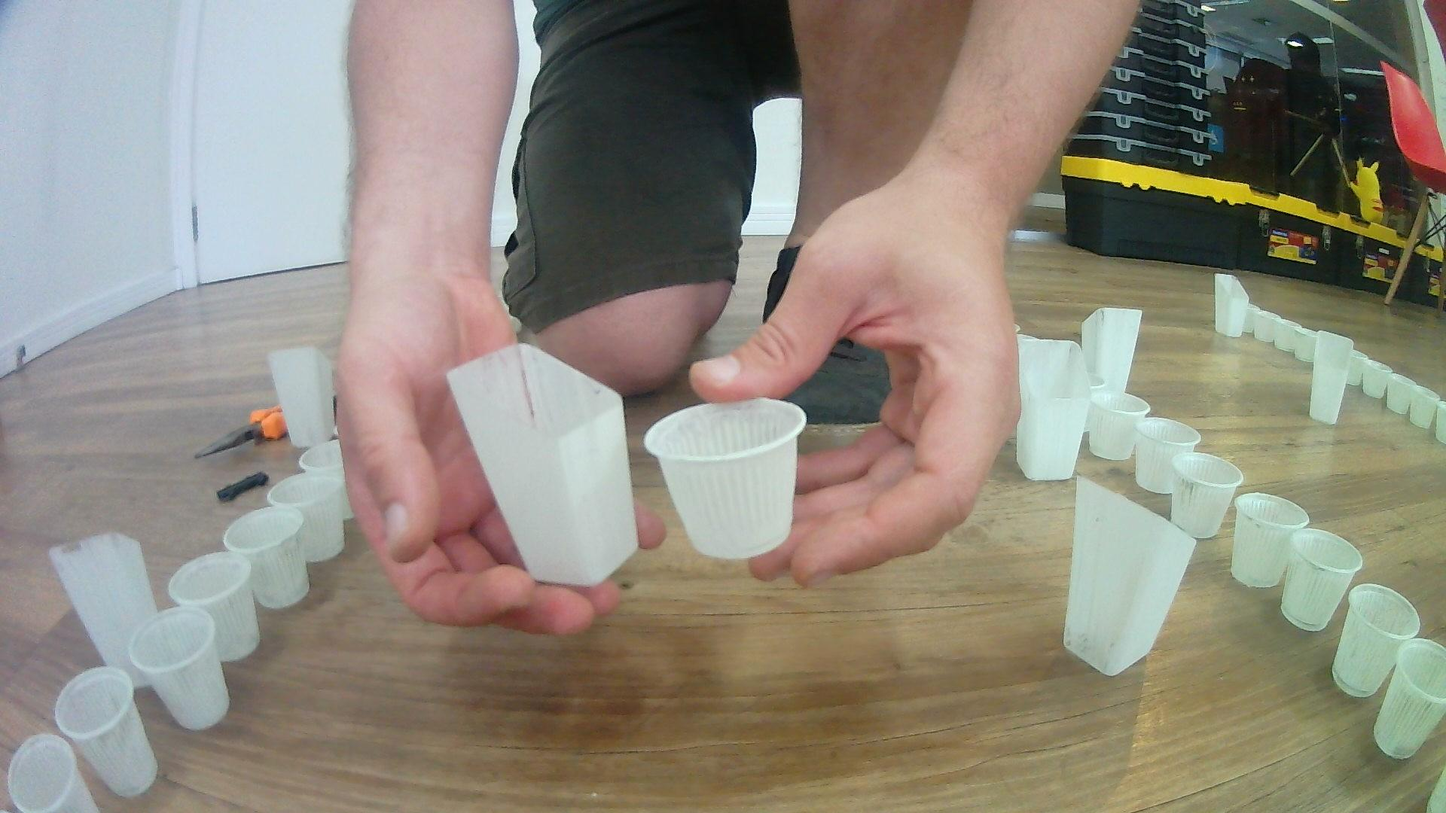erva_daninha: (445, 340, 640, 587), (1064, 473, 1197, 677), (49, 531, 166, 687), (1015, 337, 1091, 482), (267, 347, 336, 450), (1081, 307, 1145, 399), (1310, 330, 1356, 426), (1214, 273, 1249, 337)
planta: (643, 397, 807, 559), (54, 665, 159, 797), (128, 605, 231, 731), (165, 552, 261, 664), (1332, 583, 1422, 699), (1373, 637, 1446, 762), (222, 507, 310, 608), (1280, 528, 1365, 632), (1231, 492, 1311, 589), (6, 734, 100, 813), (267, 473, 346, 564), (1170, 452, 1246, 540), (1134, 417, 1203, 495), (299, 440, 355, 521), (1089, 392, 1152, 461), (1409, 387, 1441, 429), (1362, 359, 1392, 399), (1243, 305, 1274, 342), (1387, 373, 1414, 415), (1265, 316, 1296, 352), (1291, 327, 1320, 362), (1348, 351, 1369, 388), (1436, 401, 1446, 445)
